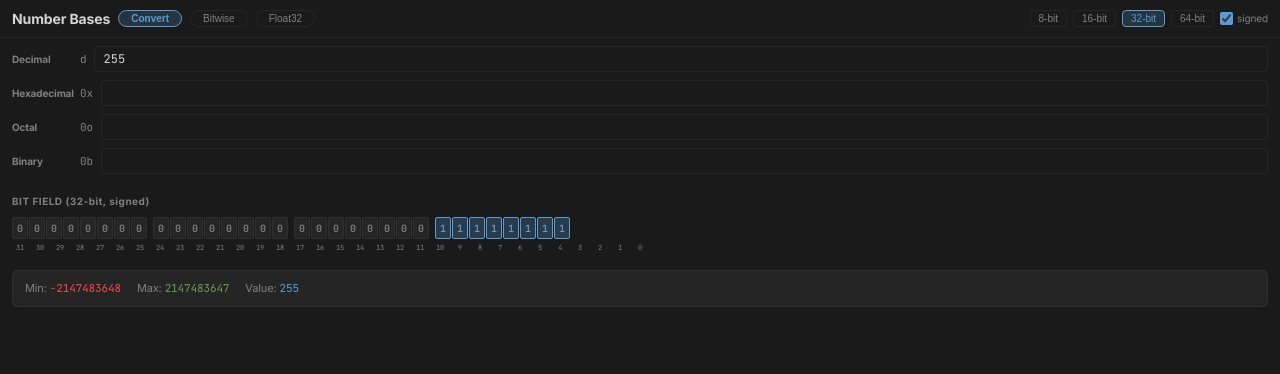
NumberBasePanel — Float32 tab (UI) › shows float32 value breakdown when Float32 tab is active
Click the button "Float32" at (285, 18), box [256,10,315,27]
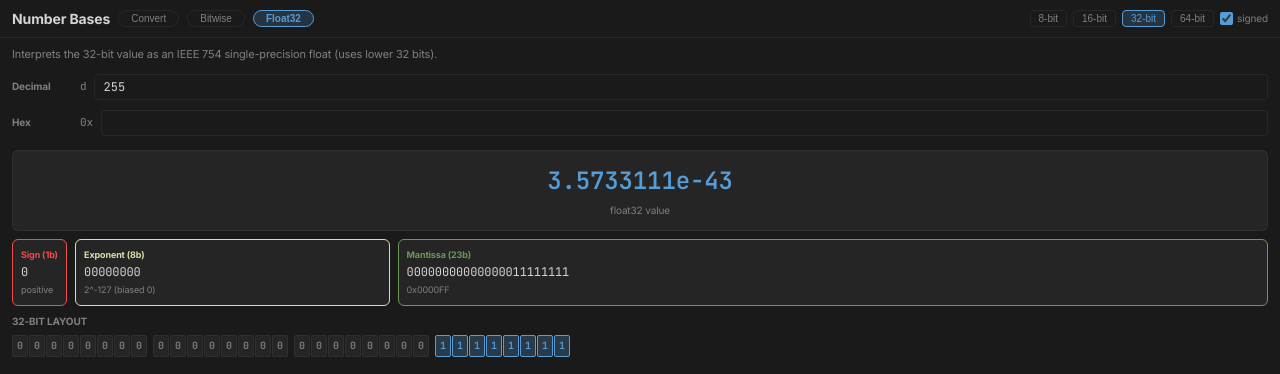
expect the text "float32 value" is shown: met, box [610,204,670,216]
